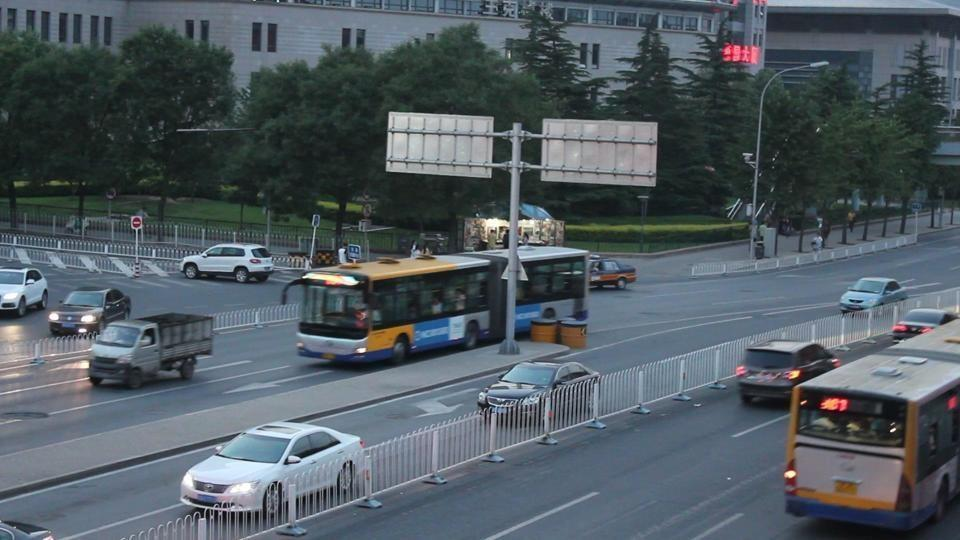car: (179, 418, 368, 514), (86, 311, 213, 388), (476, 358, 602, 417), (734, 339, 843, 406), (47, 287, 131, 338), (180, 243, 274, 283), (839, 277, 909, 315), (0, 264, 48, 318), (891, 307, 958, 340), (587, 255, 638, 290), (0, 520, 57, 540)
